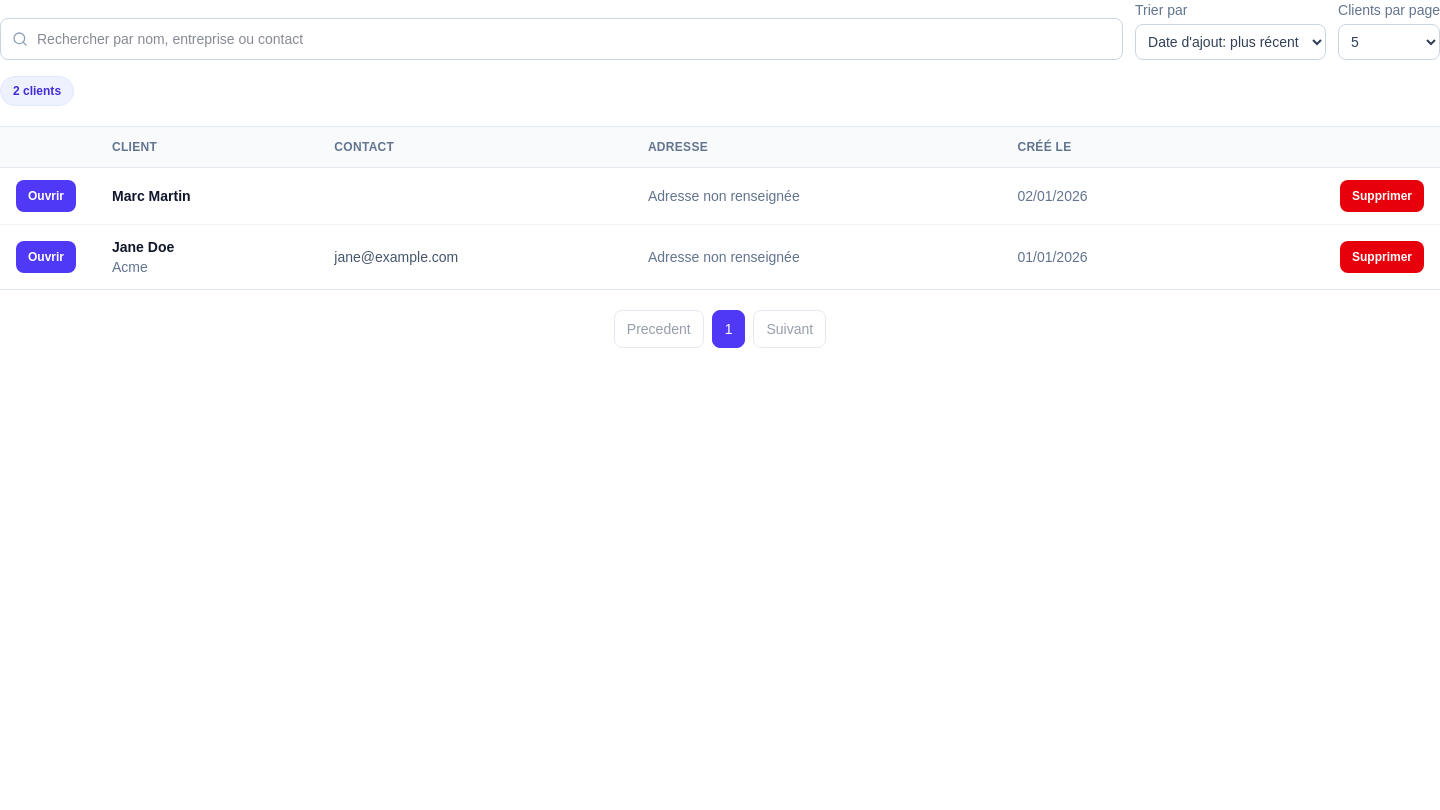
Test: CustomersList › confirms deletion and reports the selected customer id
This screenshot has width=1440, height=810.
Click the button with aria-label "Supprimer le client Jane Doe": (1382, 257) [1340, 241, 1424, 273]
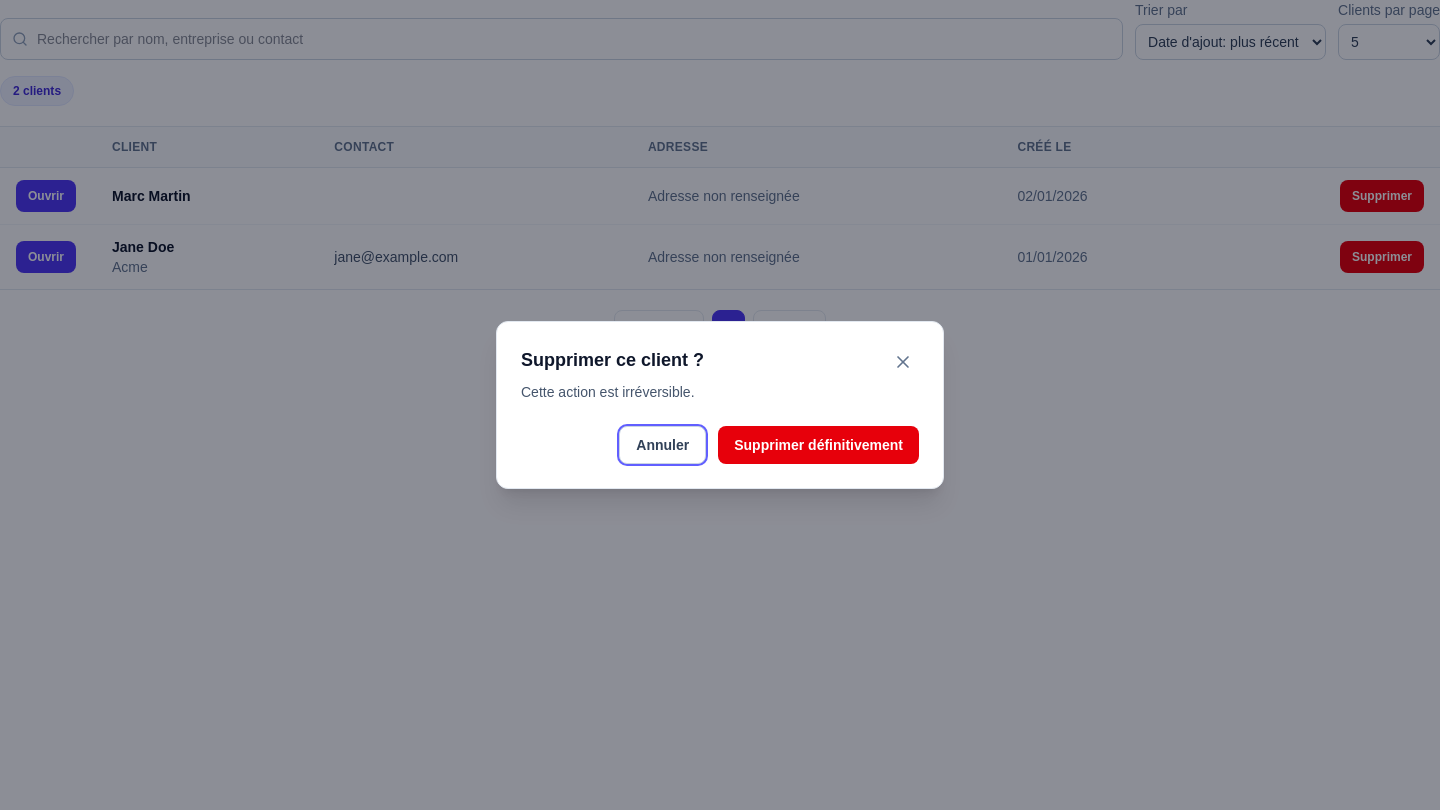
Expected: the dialog shows "Supprimer ce client ?", [521, 350, 704, 370]
Click the button "Supprimer définitivement": (819, 445) [718, 426, 919, 464]
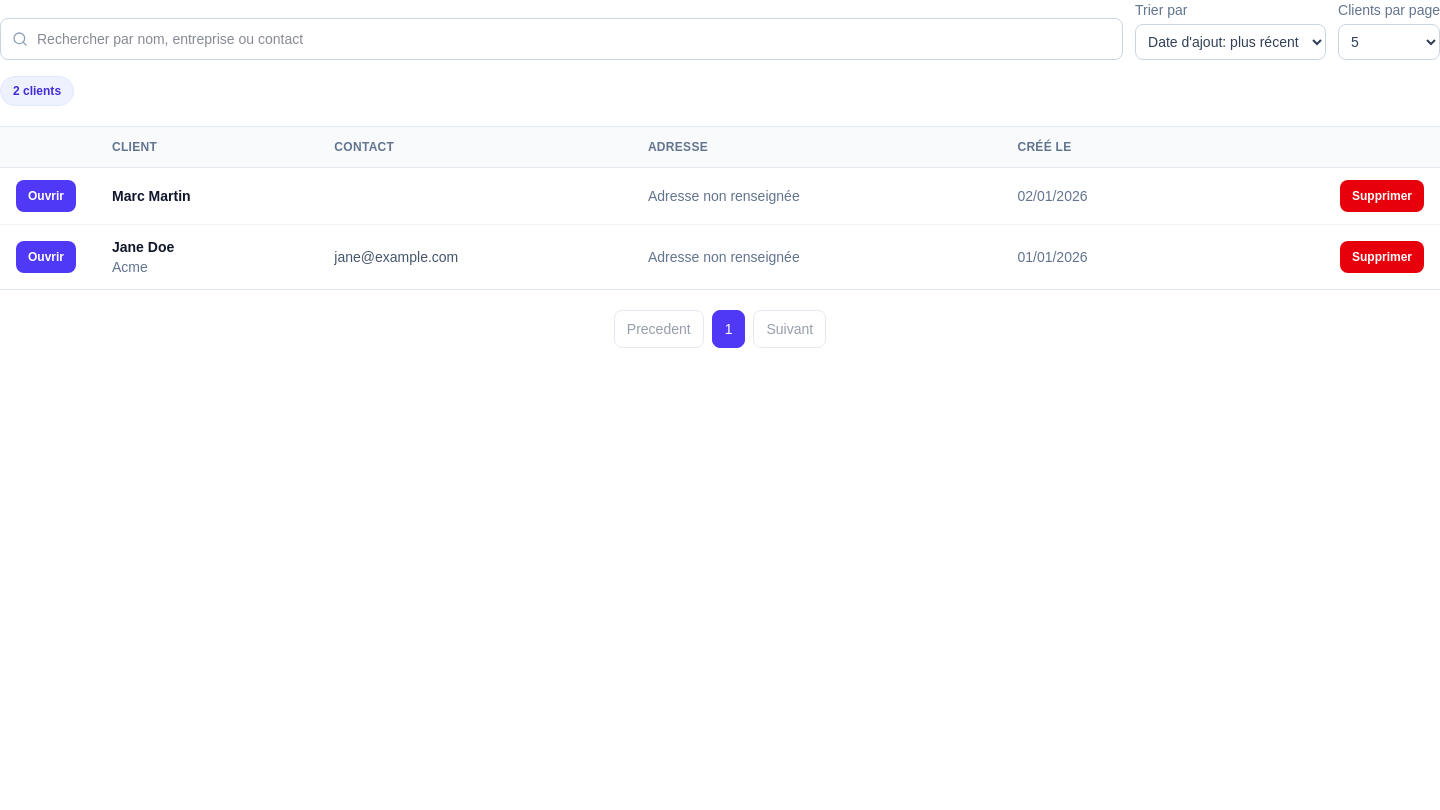
Expected: the dialog is gone
